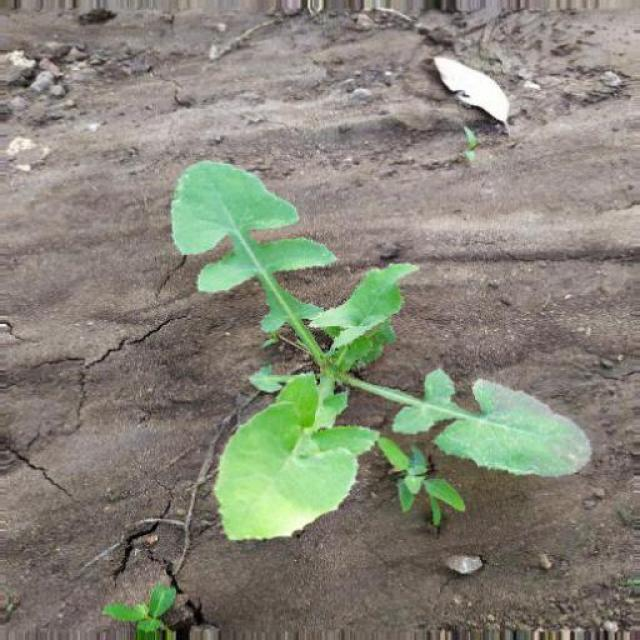weed: (166, 148, 596, 540)
